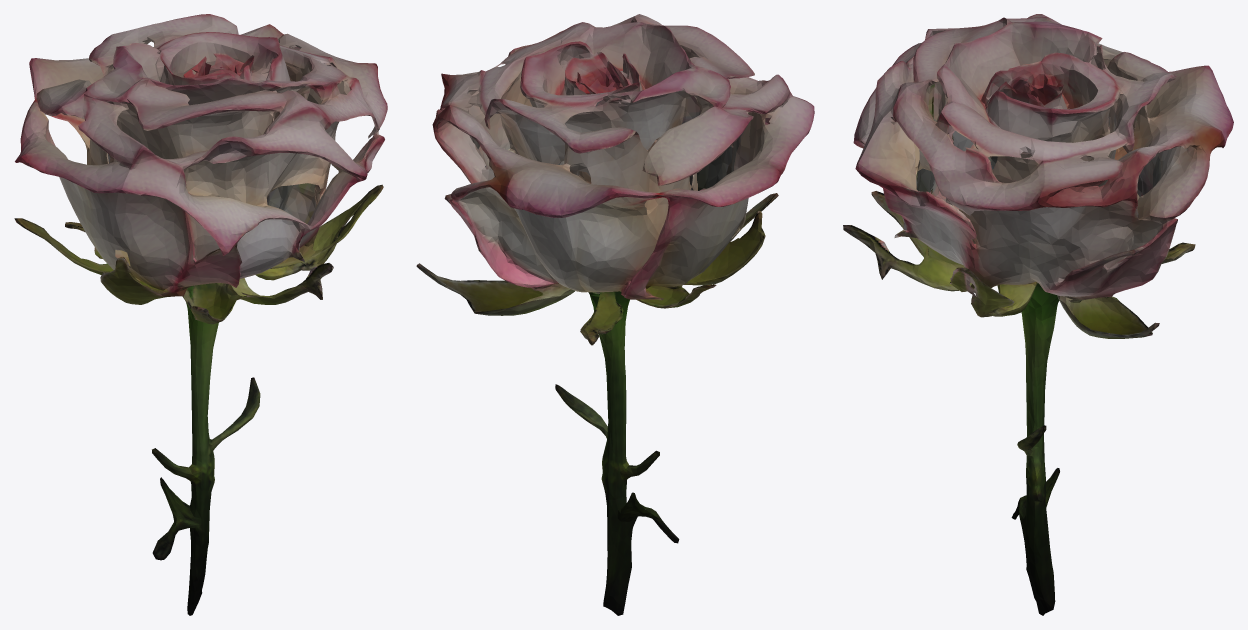
3 renders of one model, left to right at view 1: azimuth 30°, elevation 25°; view 2: azimuth 150°, elevation 25°; view 3: azimuth 270°, elevation 25°, orthographic. The views are drawn at different scales.
Visible parts, largest first — view 1: world; view 2: world; view 3: world.
Boxes of the visible parts, <box> form: world: <box>14,14,387,615</box>; world: <box>416,14,814,615</box>; world: <box>843,14,1233,615</box>.
Size of the model in its own units: 0.6354 by 0.9802 by 0.6103.
Materials: 1 (1 with a texture image).
